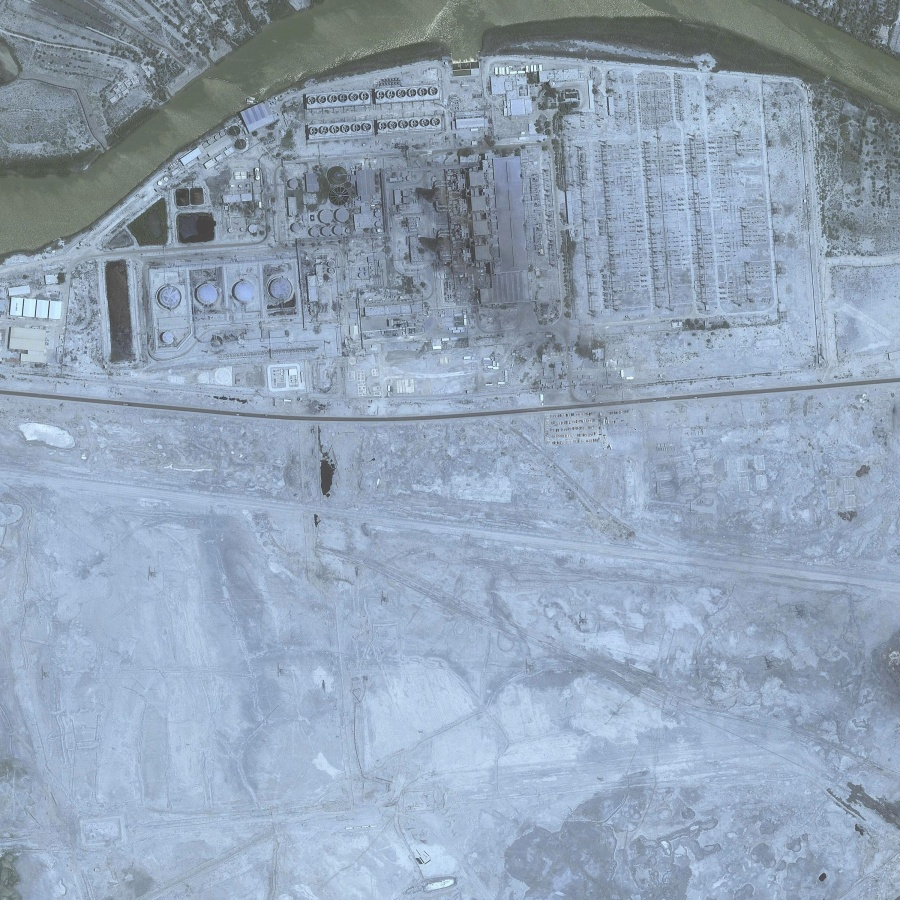PowerPlant: (82, 80, 582, 379)
